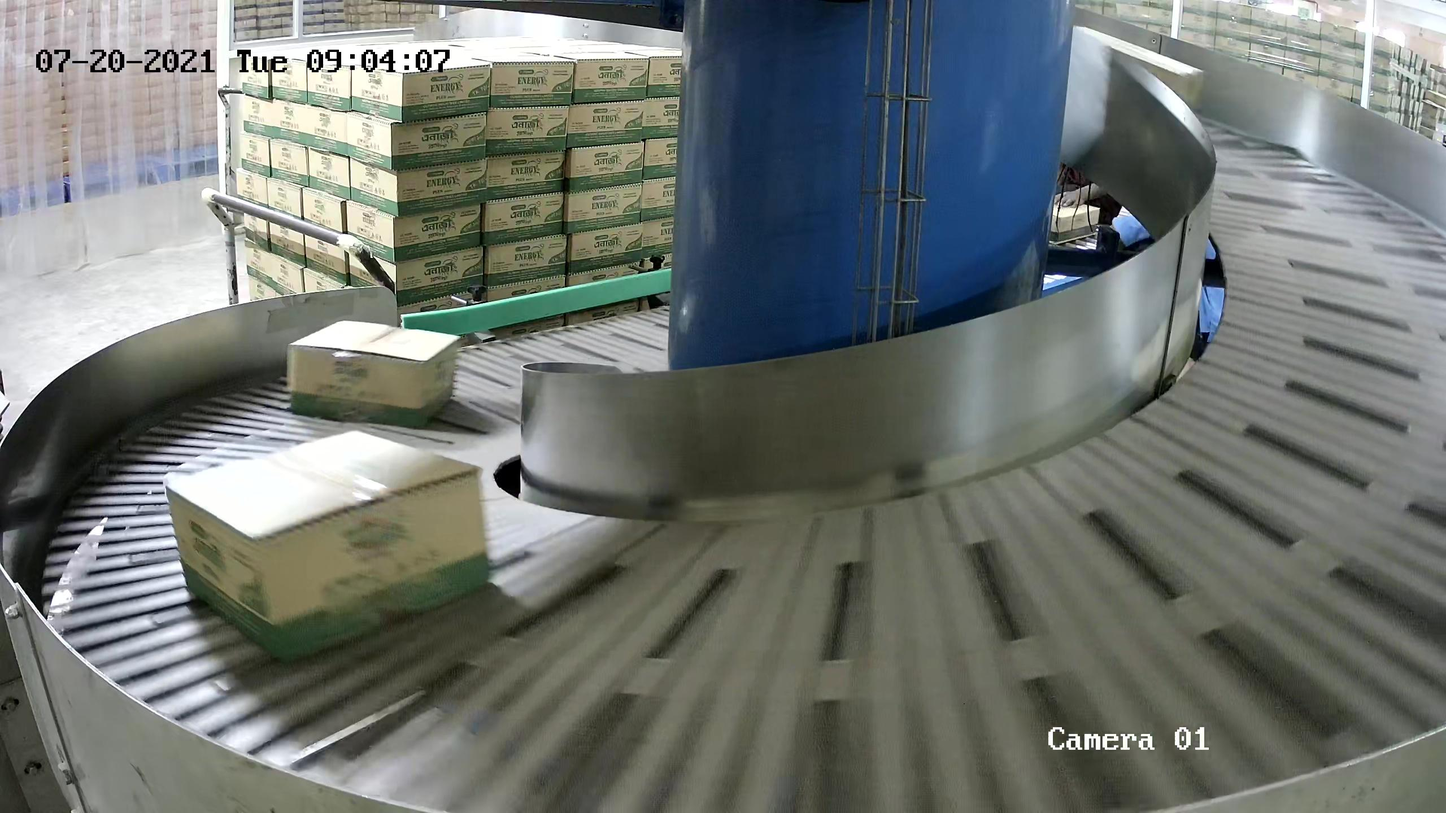Box: (162, 430, 492, 666), (285, 318, 463, 432)
